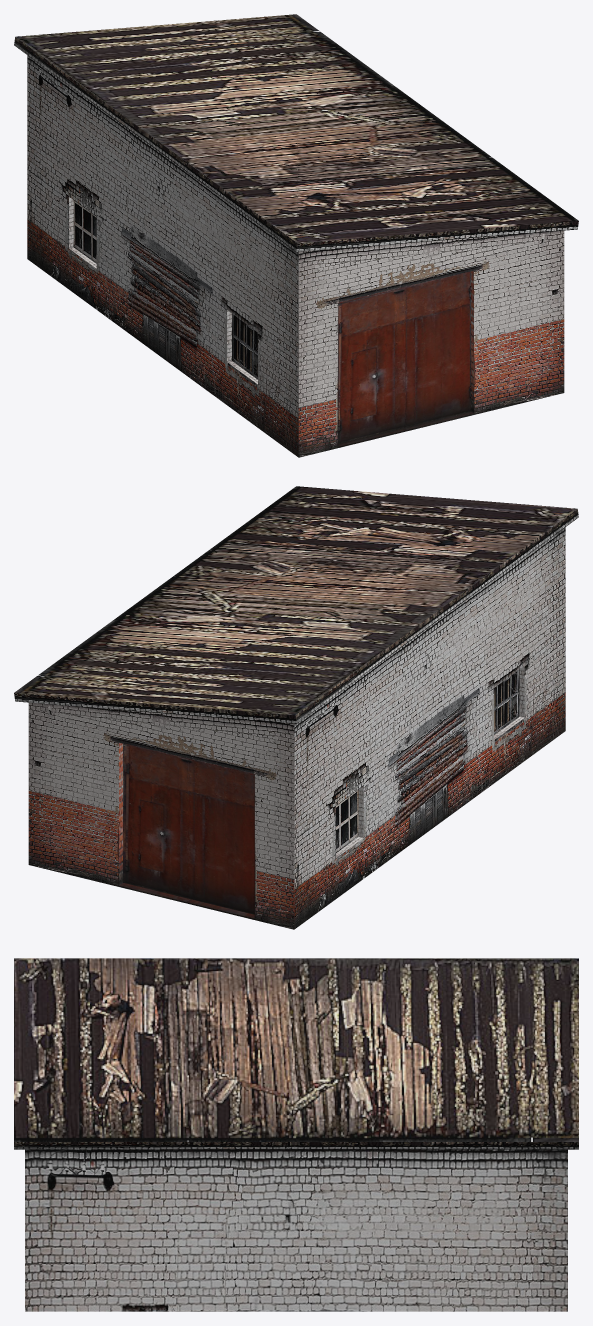
Rendered from sibir_budka.FBX.
3 renders of one model, top to bottom at view 1: azimuth 30°, elevation 25°; view 2: azimuth 150°, elevation 25°; view 3: azimuth 270°, elevation 25°, orthographic.
Parts seen in each view (by area): view 1: sibir_budka; view 2: sibir_budka; view 3: sibir_budka.
Boxes of the visible parts, x1,y1,x2,y2 form: sibir_budka: [14, 14, 578, 457]; sibir_budka: [14, 486, 578, 929]; sibir_budka: [14, 958, 578, 1311].
Size of the model in its own units: 714 by 1235 by 531.
